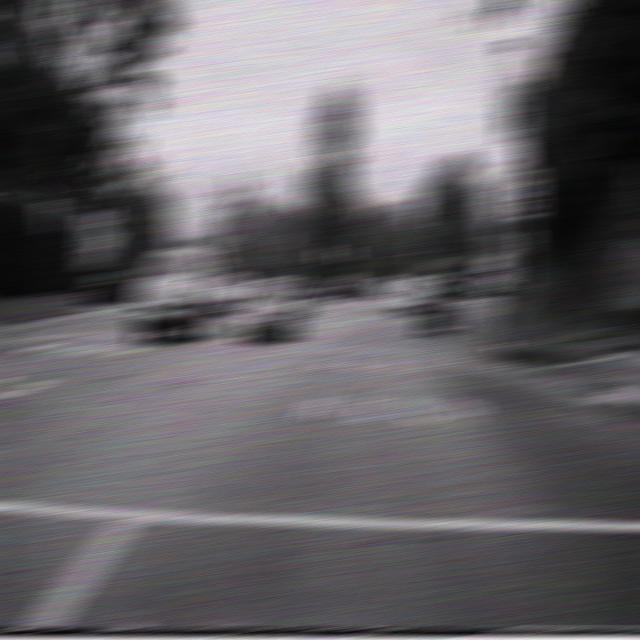speedLimit35: (507, 167, 542, 220)
